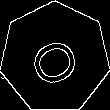O_NE: (23, 27, 87, 89)
